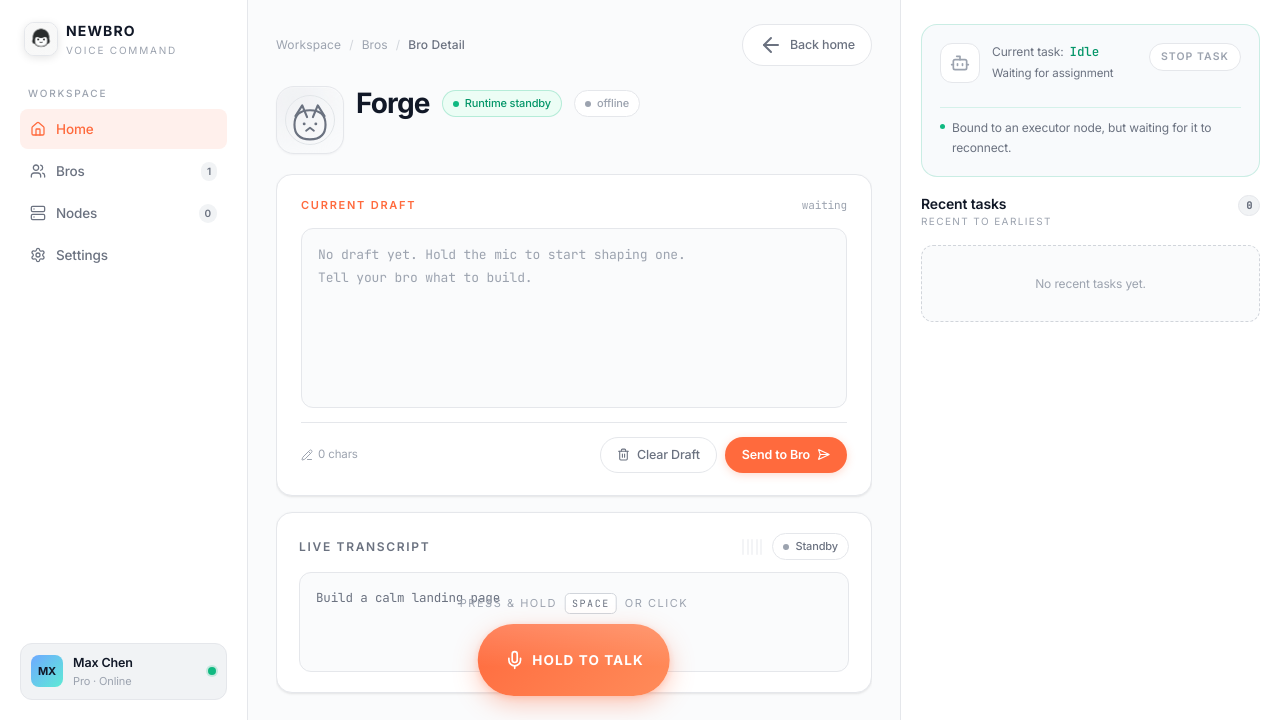
Test: Newbro voice shell › clears the current Bro detail draft without sending it
Press the mouse on the button "Hold to Talk": {"x": 574, "y": 660} [478,624,670,696]
Wait 1200 ms
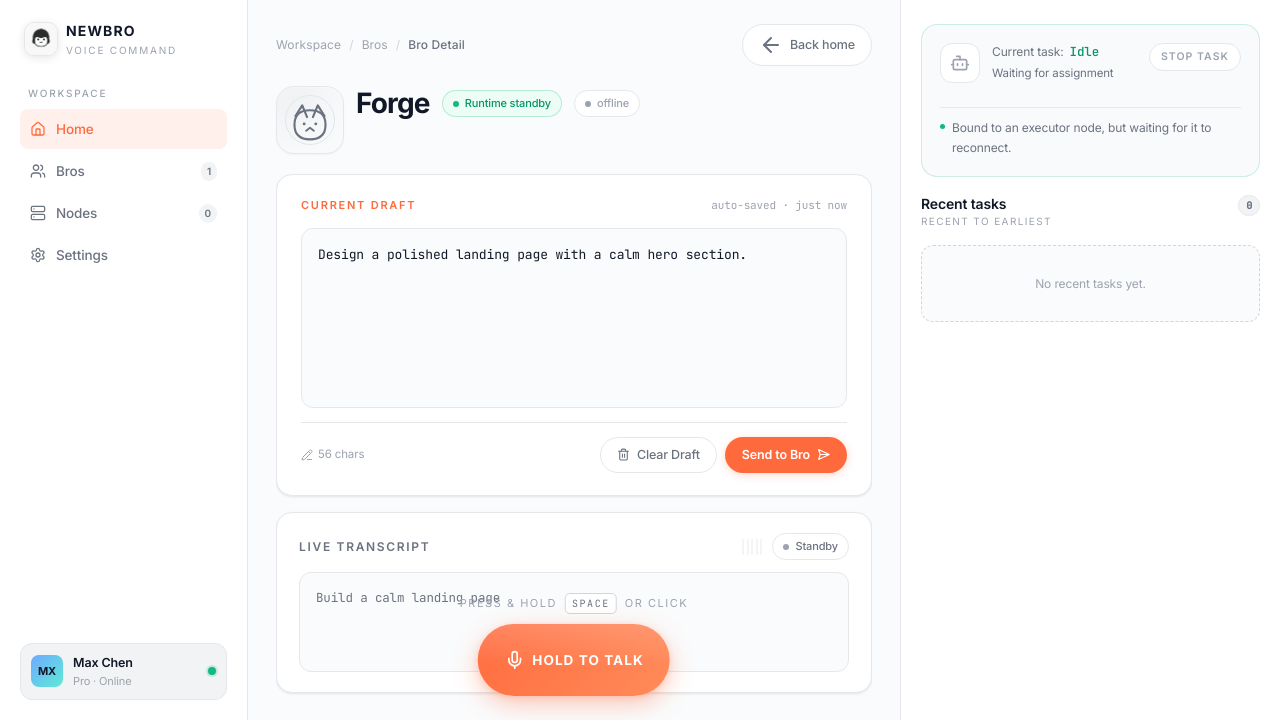
Now the text "Design a polished landing page with a calm hero section." is shown, box [301,228,847,408]
Click the button "Clear Draft": {"x": 658, "y": 455} [600,436,717,473]
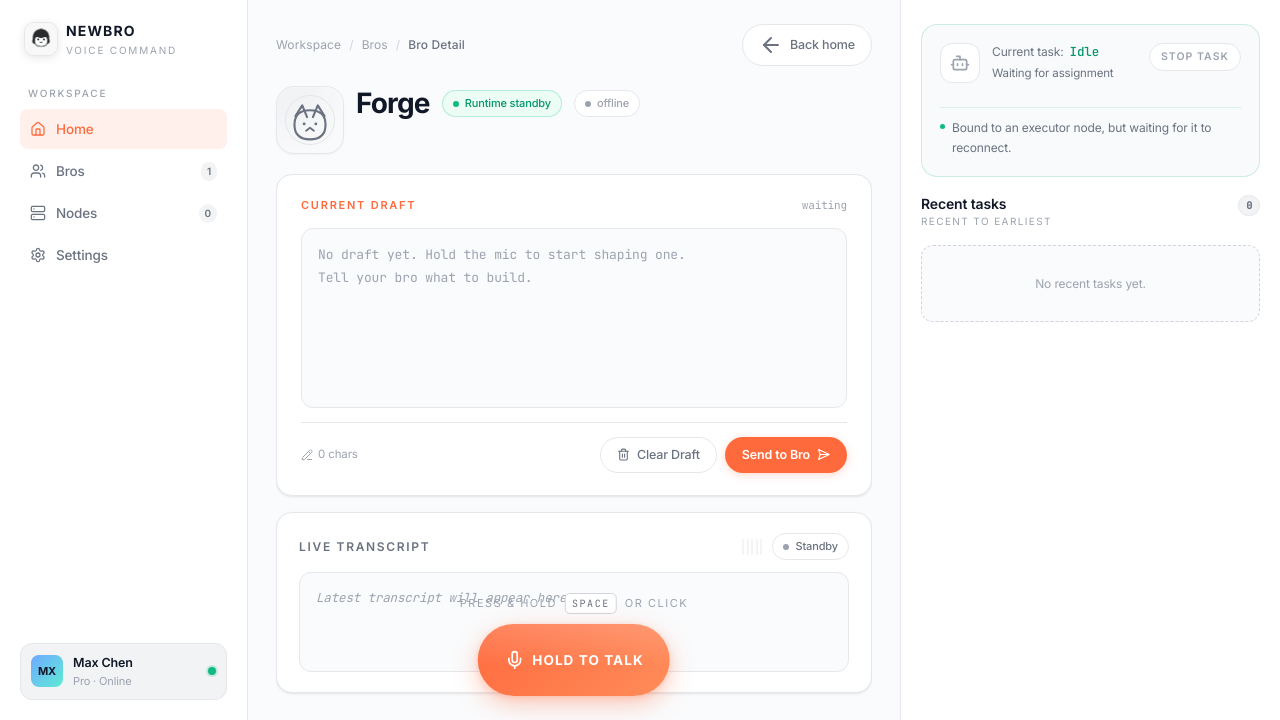
Now the text "Design a polished landing page with a calm hero section." is gone
Now the text "No draft yet. Hold the mic to start shaping one." is shown, box [318,246,686,262]
